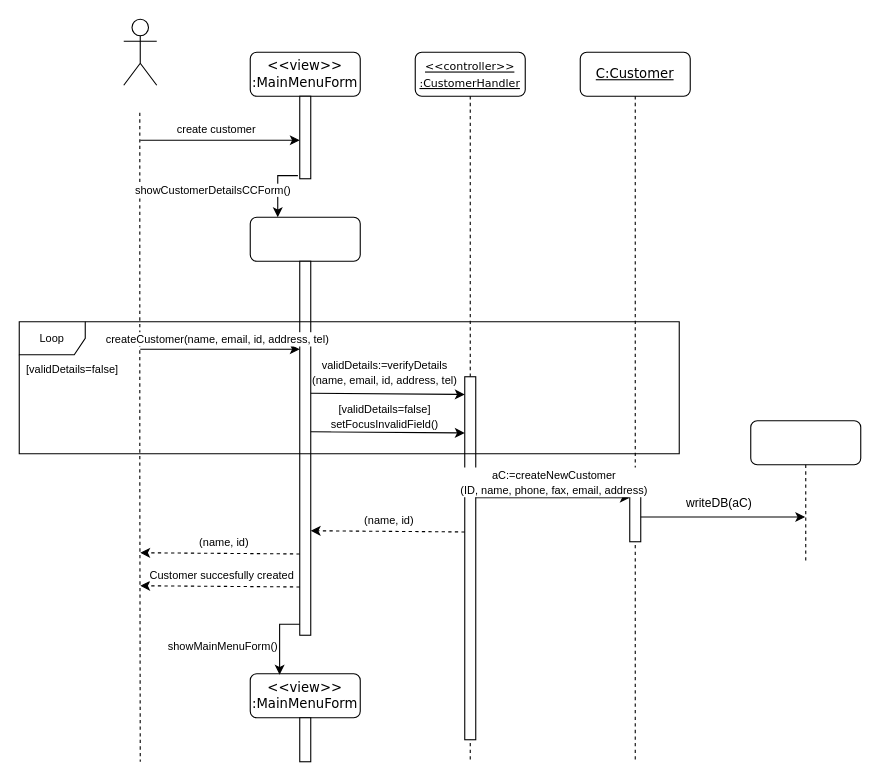
Some shapes in this 884 by 782 pixel diagram are drawn without their labels. The shapes that lost their labels are listed below. From the top down, each one's centre as x and y in pixels, then its label:
the point at 140,51: Order Clerk
the point at 304,238: <<view>> : CustomerDetailsCCForm
the point at 805,492: <<dataAccess>> :CustomerDA
